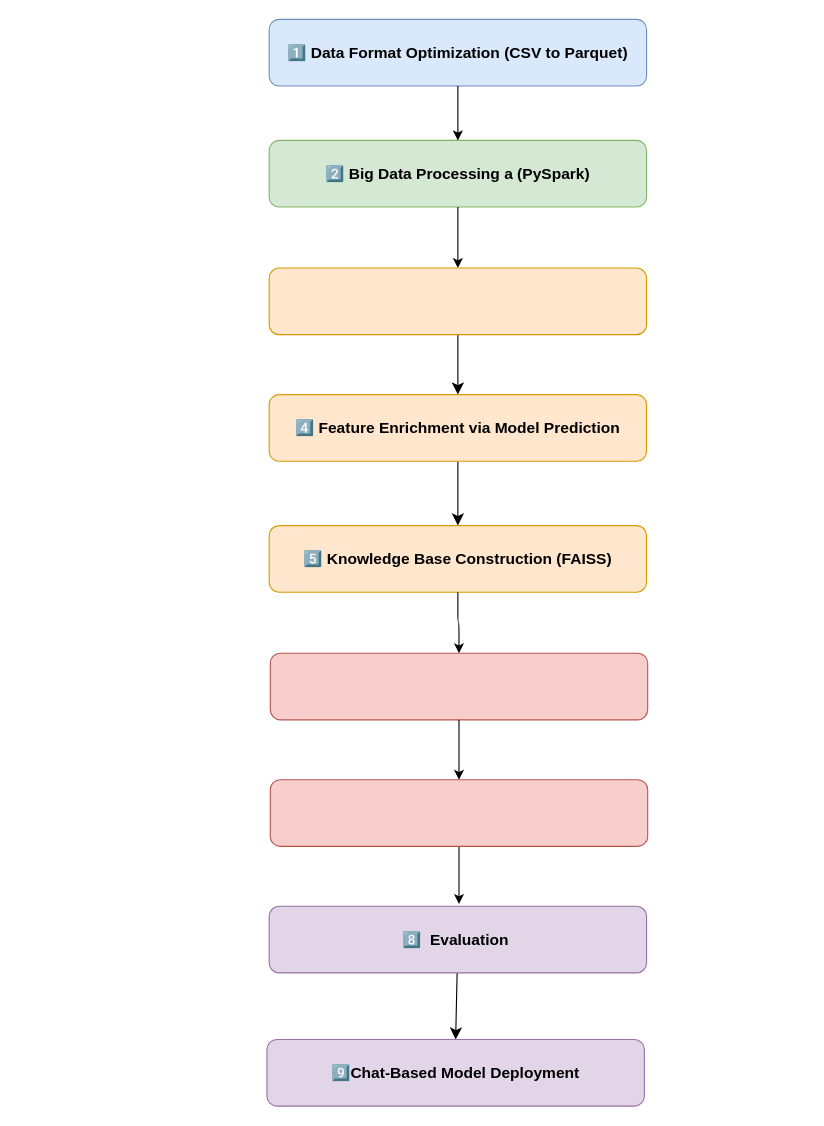
Image size: 824x1126. Some labels were removed from this diagram. Each missing label, with the centre of its shape:
"3️⃣ Data Analysis" goes at pixel 457 301.
"6️⃣ Model Adaptation & Compression (QLoRA )" goes at pixel 458 686.
"7️⃣ Domain & Non-domain classifier" goes at pixel 458 812.
